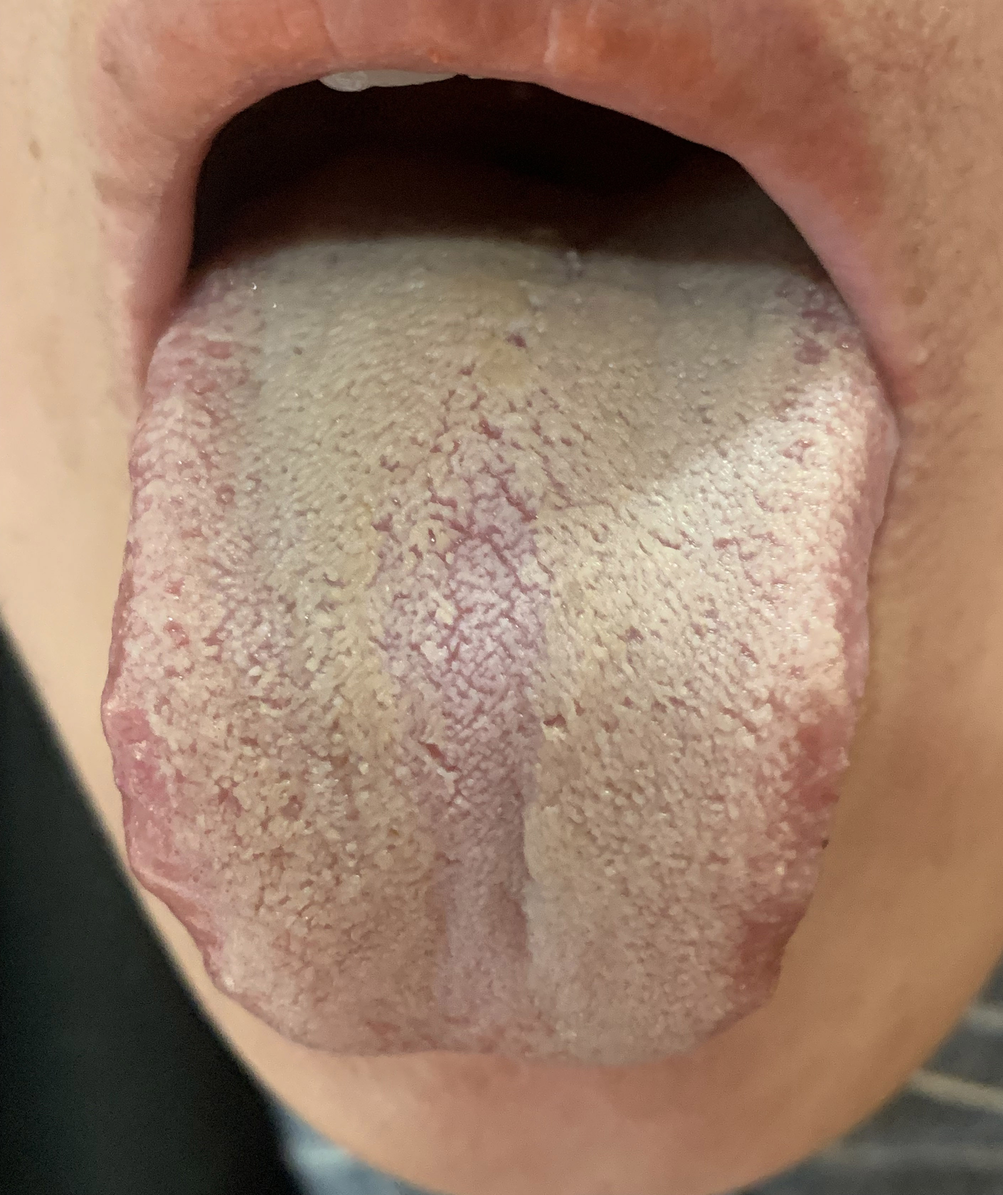huangtaishe: (102, 235, 898, 1063)
